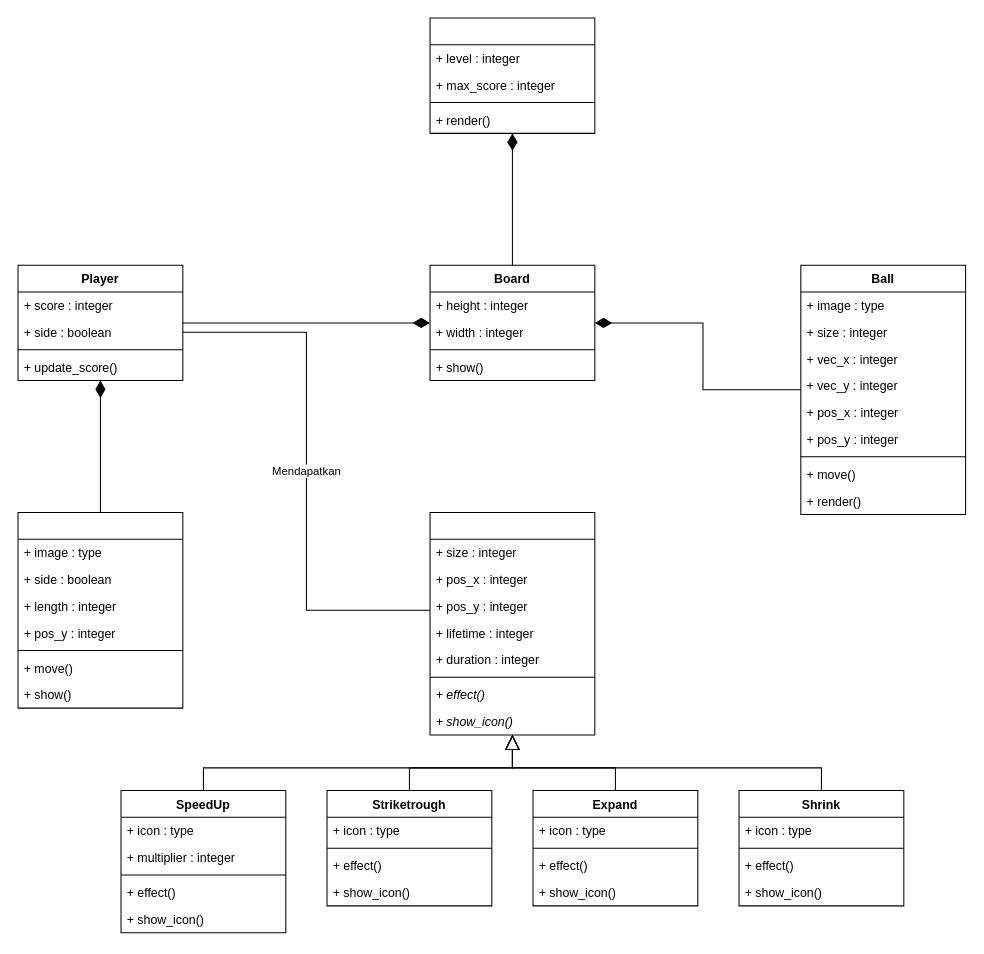
Image size: 984x954. Some labels were removed from this diagram. Here are the shapes that lost their labels. From the top down, the box of each, then its label:
(429, 17, 595, 133): Menu
(17, 511, 183, 708): Paddle
(429, 511, 595, 735): Item
